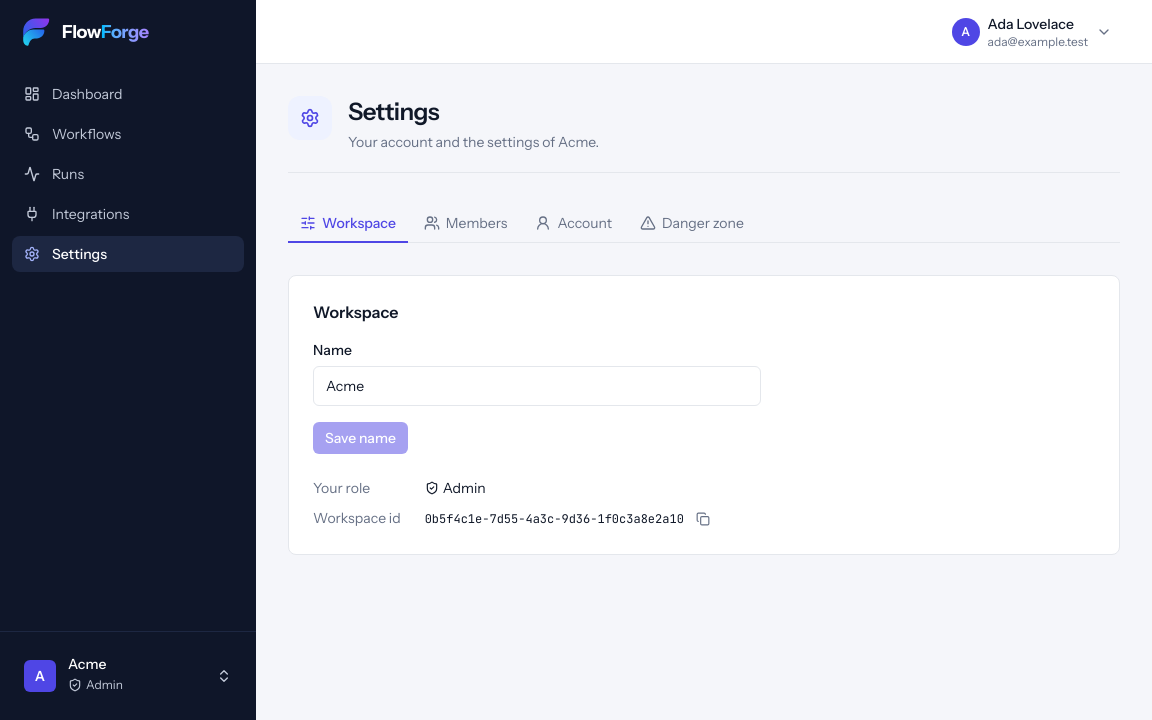
rename, leave and delete (AC-03.4) › renames the workspace
The width and height of the screenshot is (1152, 720).
Replace the text in the field labelled "Name" with "Acme Corp": (537, 386) [313,366,761,406]
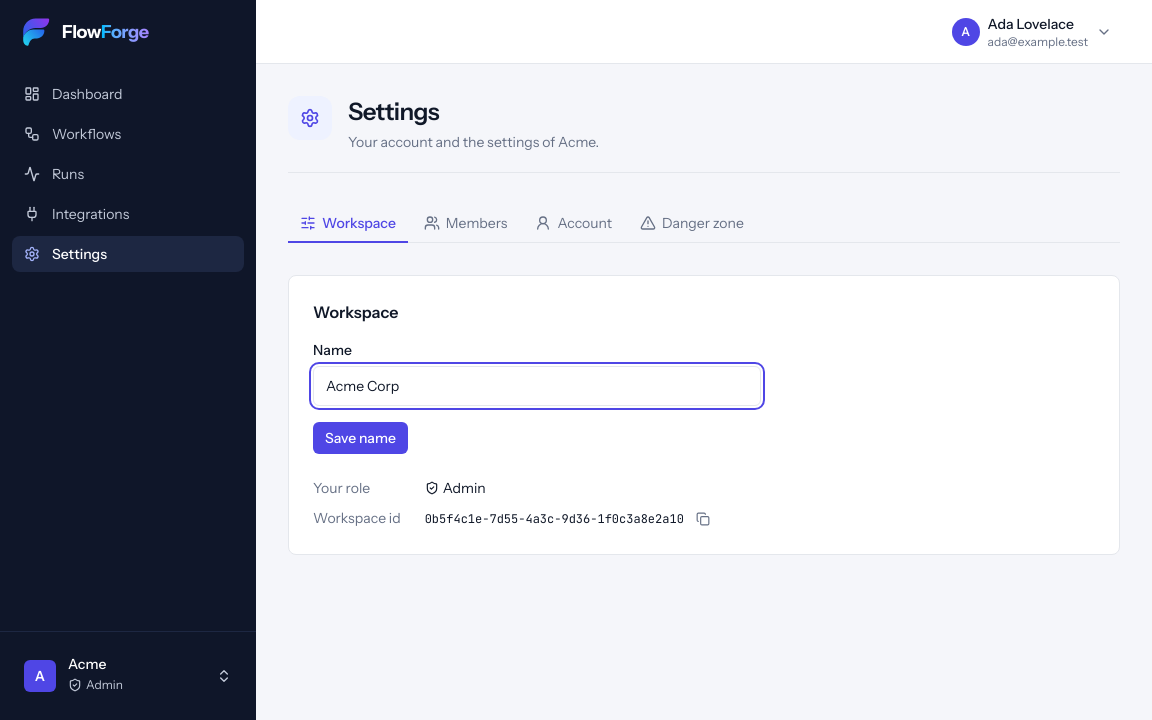
Click the button "Save name": (360, 438) [313,422,408,454]
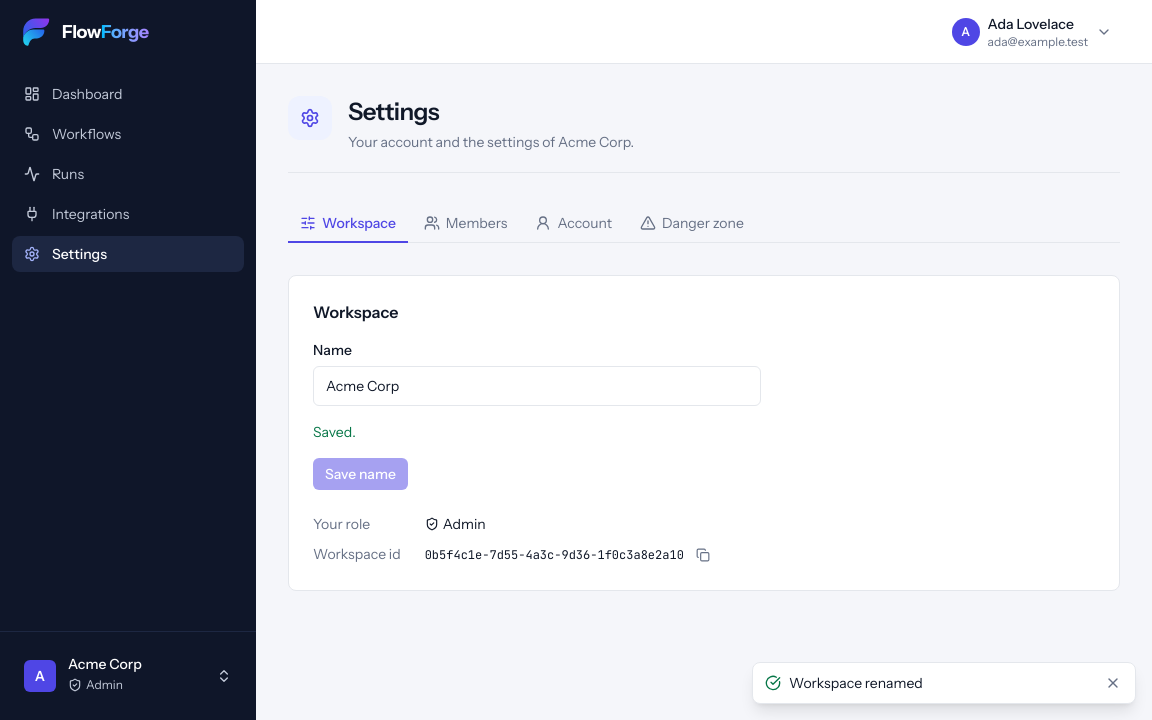
Now the text "Saved." is shown, box [313,423,356,441]
Now the button with aria-label "Workspace: Acme Corp" is shown, box [12,644,244,708]
